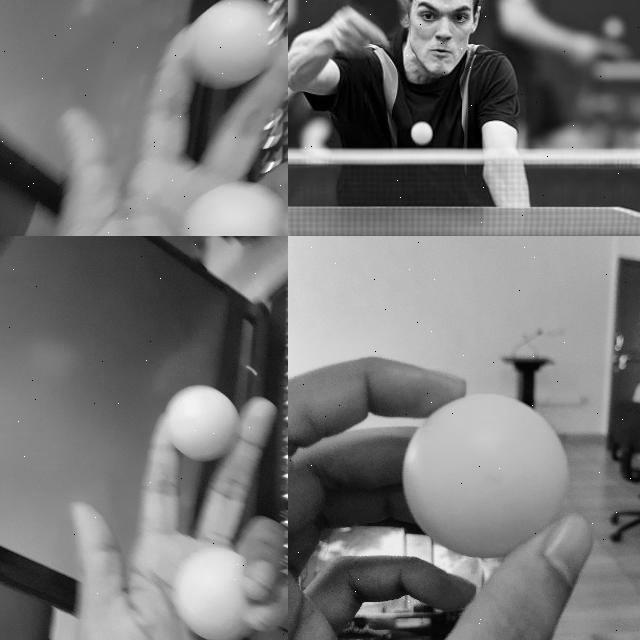ping-pong-ball: (400, 394, 568, 558), (172, 546, 259, 639), (189, 0, 276, 86), (179, 181, 285, 235), (167, 387, 237, 457), (412, 120, 432, 144), (604, 18, 624, 38)
